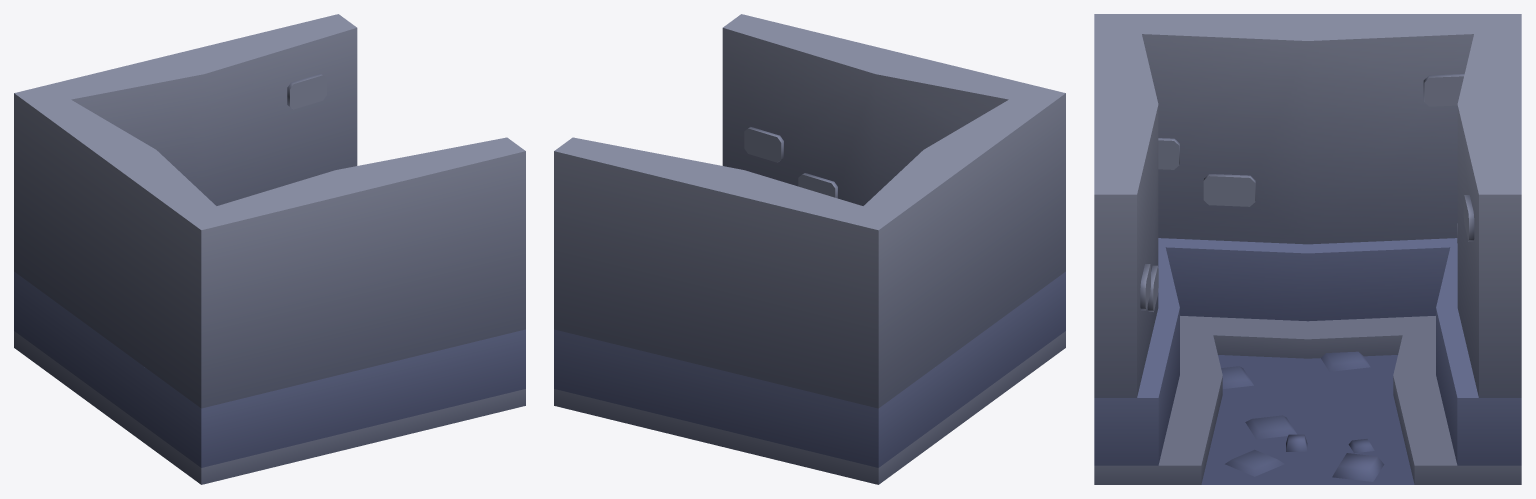
File: corridor-end.fbx
The picture shows the model from 3 angles, left to right: view 1: azimuth 30°, elevation 25°; view 2: azimuth 150°, elevation 25°; view 3: azimuth 270°, elevation 25°; orthographic projection. The views are drawn at different scales.
Parts seen in each view (by area): view 1: corridor-end; view 2: corridor-end; view 3: corridor-end.
Part boxes in pixels (x1,y1,x2,y2): corridor-end: (14, 14, 525, 484); corridor-end: (554, 14, 1065, 484); corridor-end: (1094, 14, 1521, 484).
Bounding box in the file's own units: 400 × 300 × 400.
Materials: 1 (1 with a texture image).
